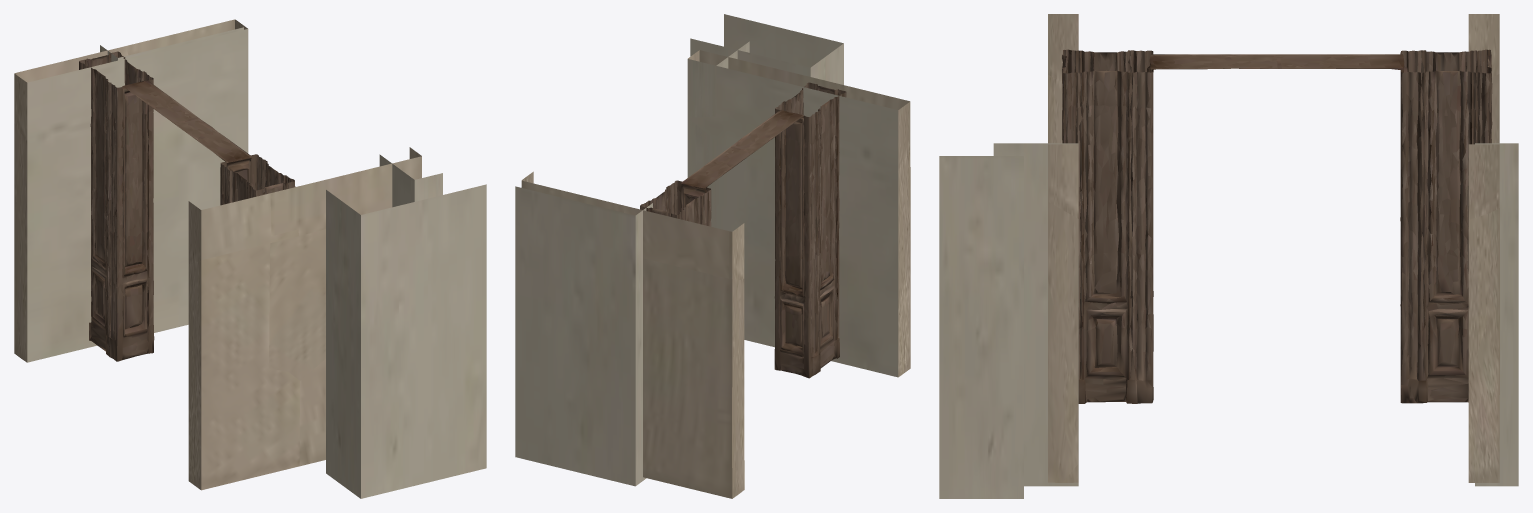
The model's file is SM___9cddaa.glb.
3 views of the same model, side by side, from view 1: azimuth 30°, elevation 25°; view 2: azimuth 150°, elevation 25°; view 3: azimuth 270°, elevation 25° (orthographic). The views are drawn at different scales.
Visible parts, largest first — view 1: SM_门; view 2: SM_门; view 3: SM_门.
Part boxes in pixels (x1,y1,x2,y2): SM_门: [14, 19, 486, 498]; SM_门: [515, 14, 910, 498]; SM_门: [939, 14, 1518, 498].
Size of the model in its own units: 1.91 by 2.16 by 3.3.
3 materials, 3 textured.
